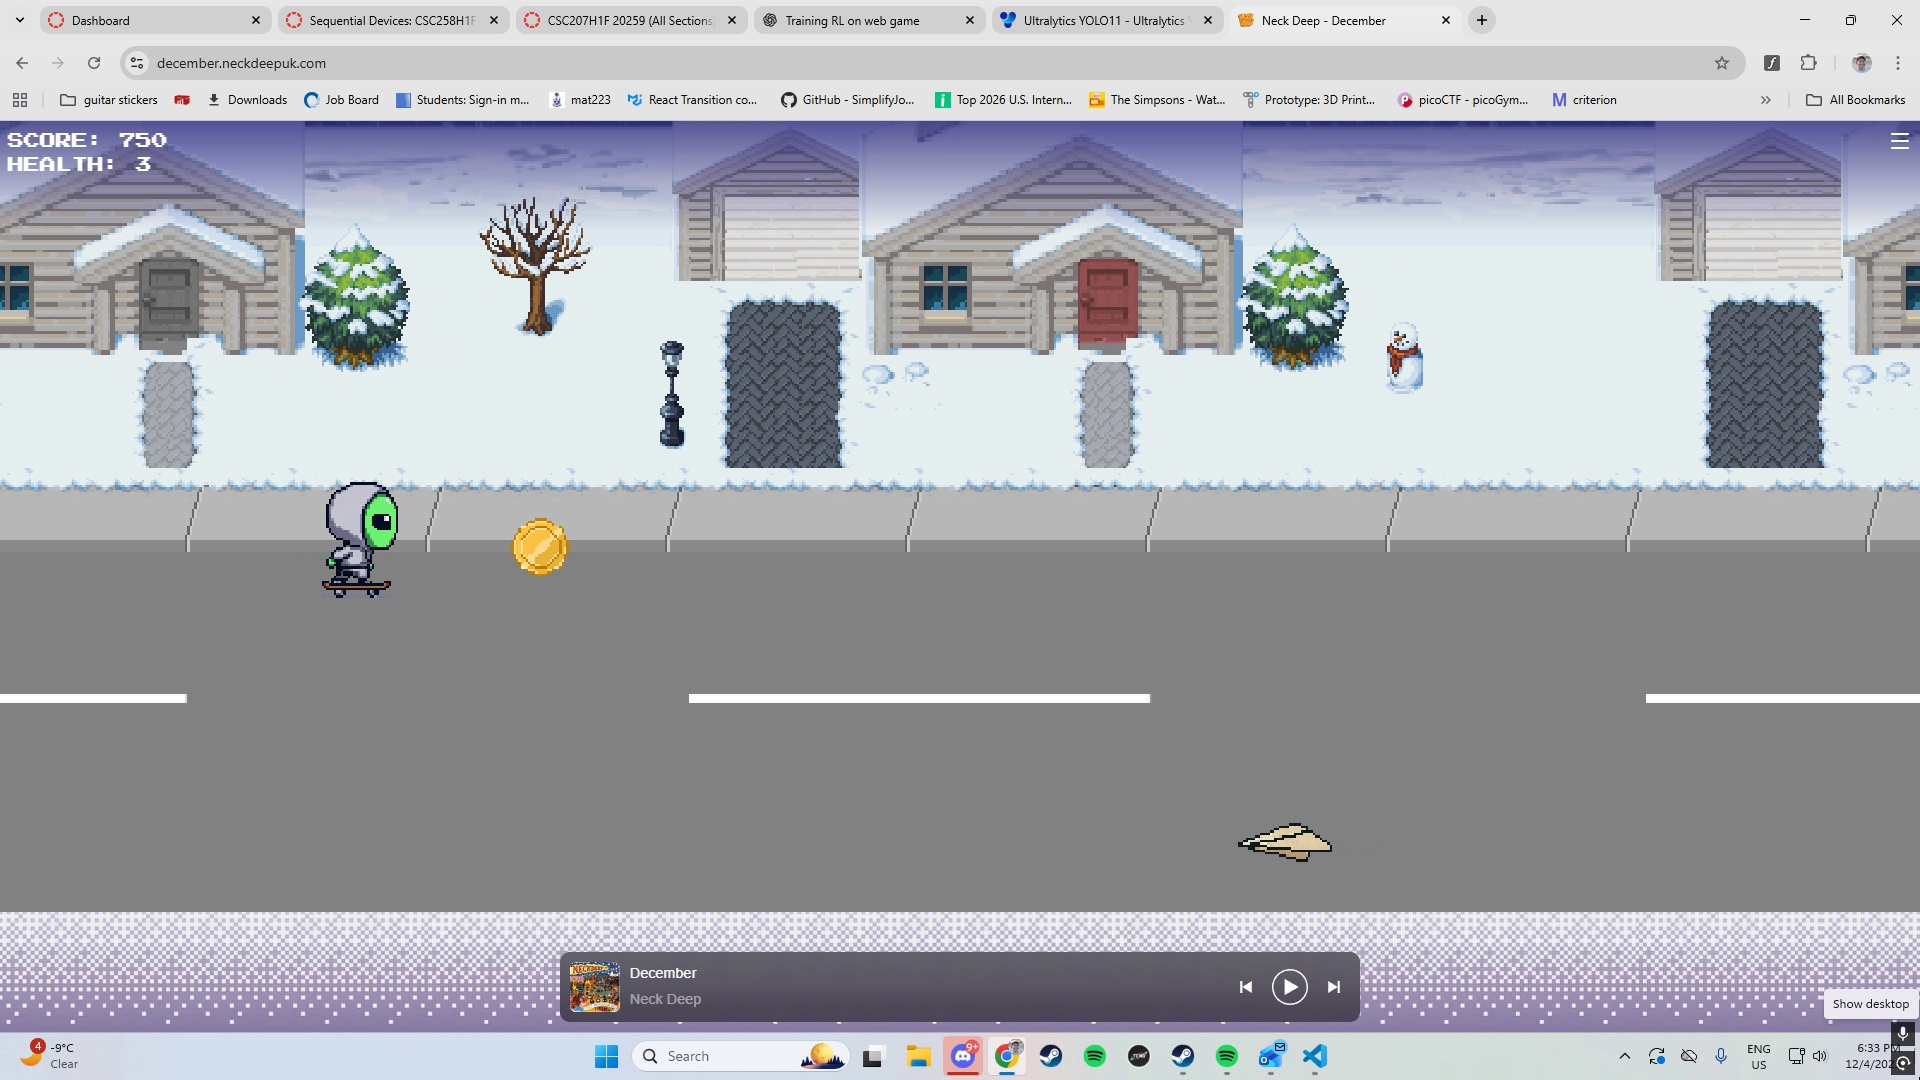Coin: (508, 514, 571, 579)
Plane: (1231, 816, 1339, 871)
Player: (314, 479, 402, 605)
